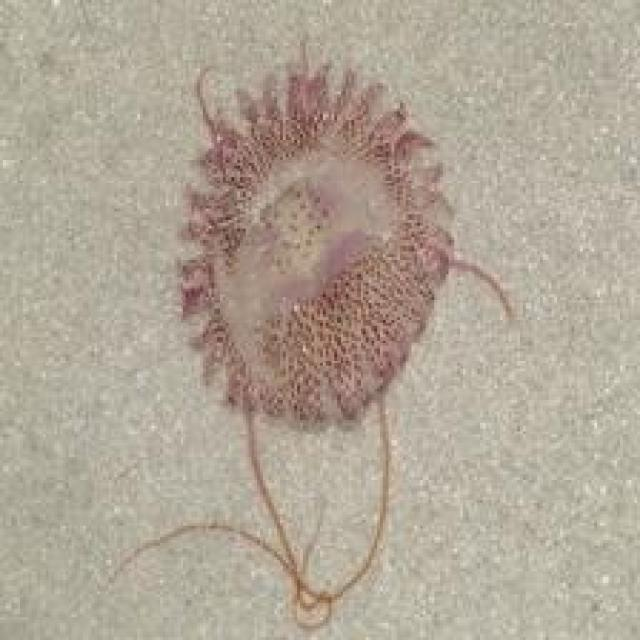Moon-jellyfish: (103, 34, 514, 629)
